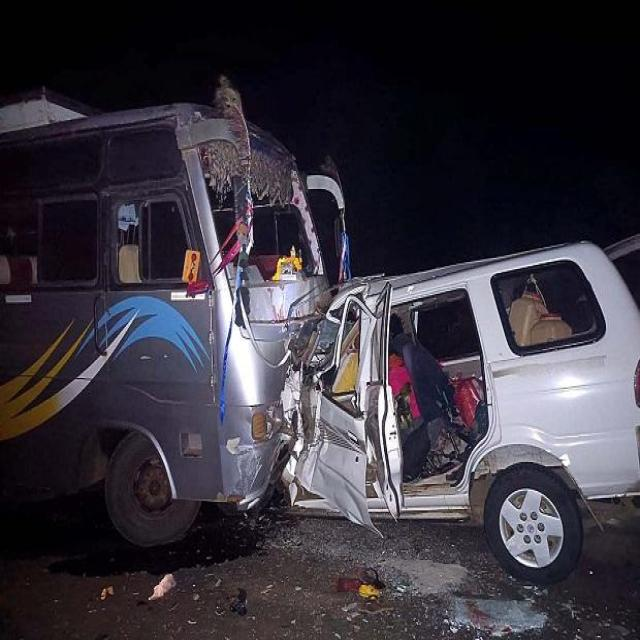accident: (0, 80, 349, 545), (282, 242, 640, 582)
